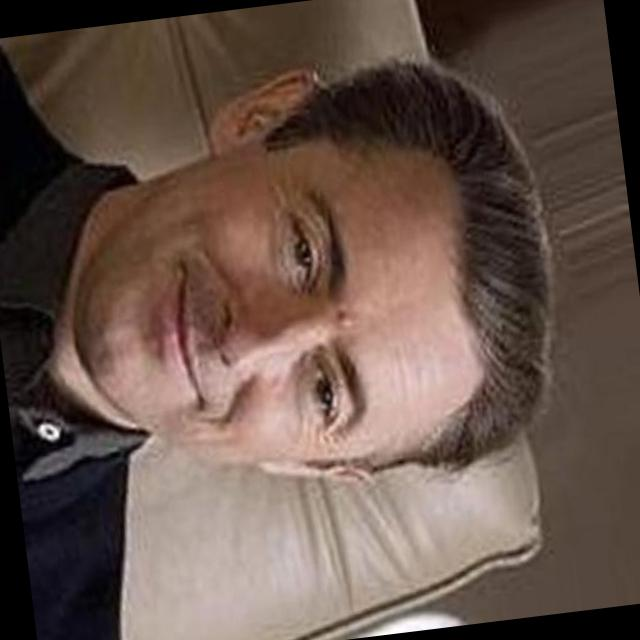bareface: (51, 43, 568, 504)
